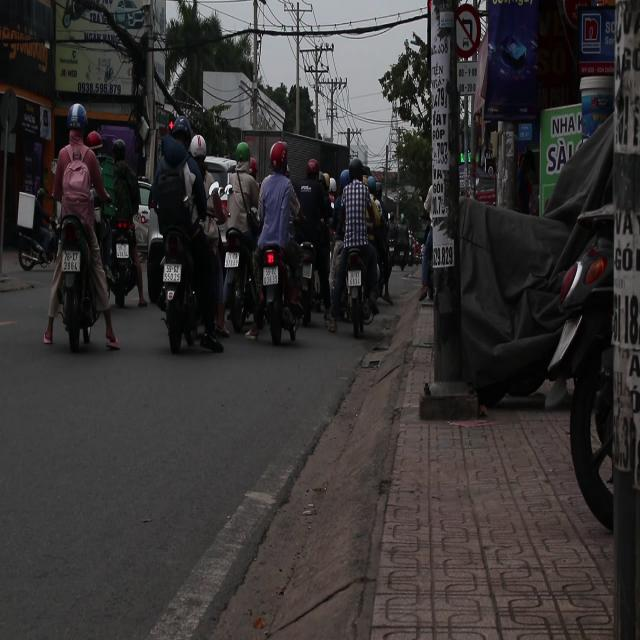motorbike: (50, 212, 104, 358), (156, 228, 216, 349), (260, 242, 296, 348), (338, 255, 378, 344), (220, 224, 253, 322), (111, 216, 143, 311)
